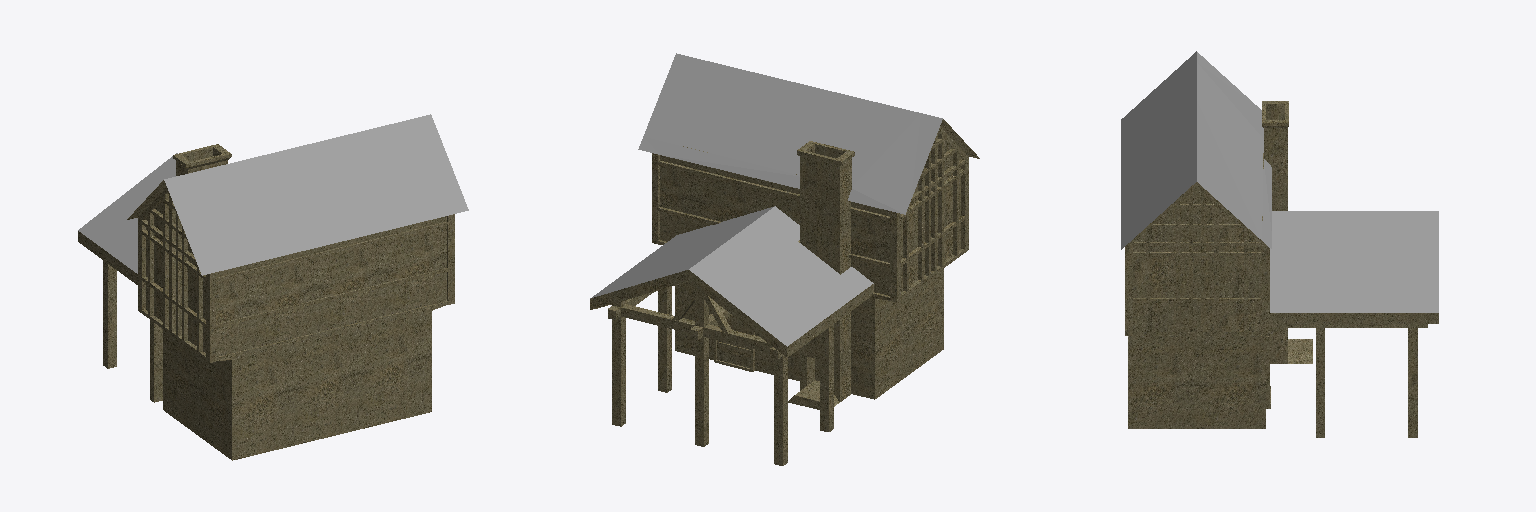
The picture shows the model from 3 angles: view 1: azimuth 30°, elevation 25°; view 2: azimuth 150°, elevation 25°; view 3: azimuth 270°, elevation 25°; orthographic projection.
Parts seen in each view (by area): view 1: Cube; view 2: Cube; view 3: Cube.
Part boxes in pixels (left/top/right/bottom): Cube: left=78, top=114, right=468, bottom=460; Cube: left=590, top=53, right=979, bottom=465; Cube: left=1121, top=51, right=1438, bottom=437.
Size of the model in its own units: 8.13 by 8.12 by 8.38.
2 materials, 1 textured.